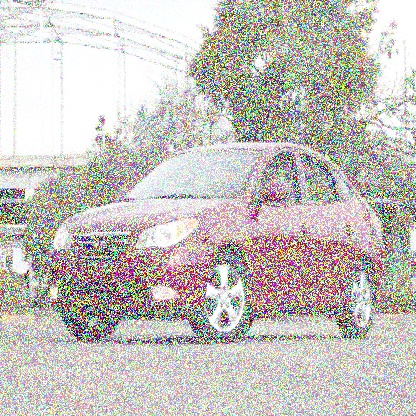Vehicle: (45, 141, 388, 347)
